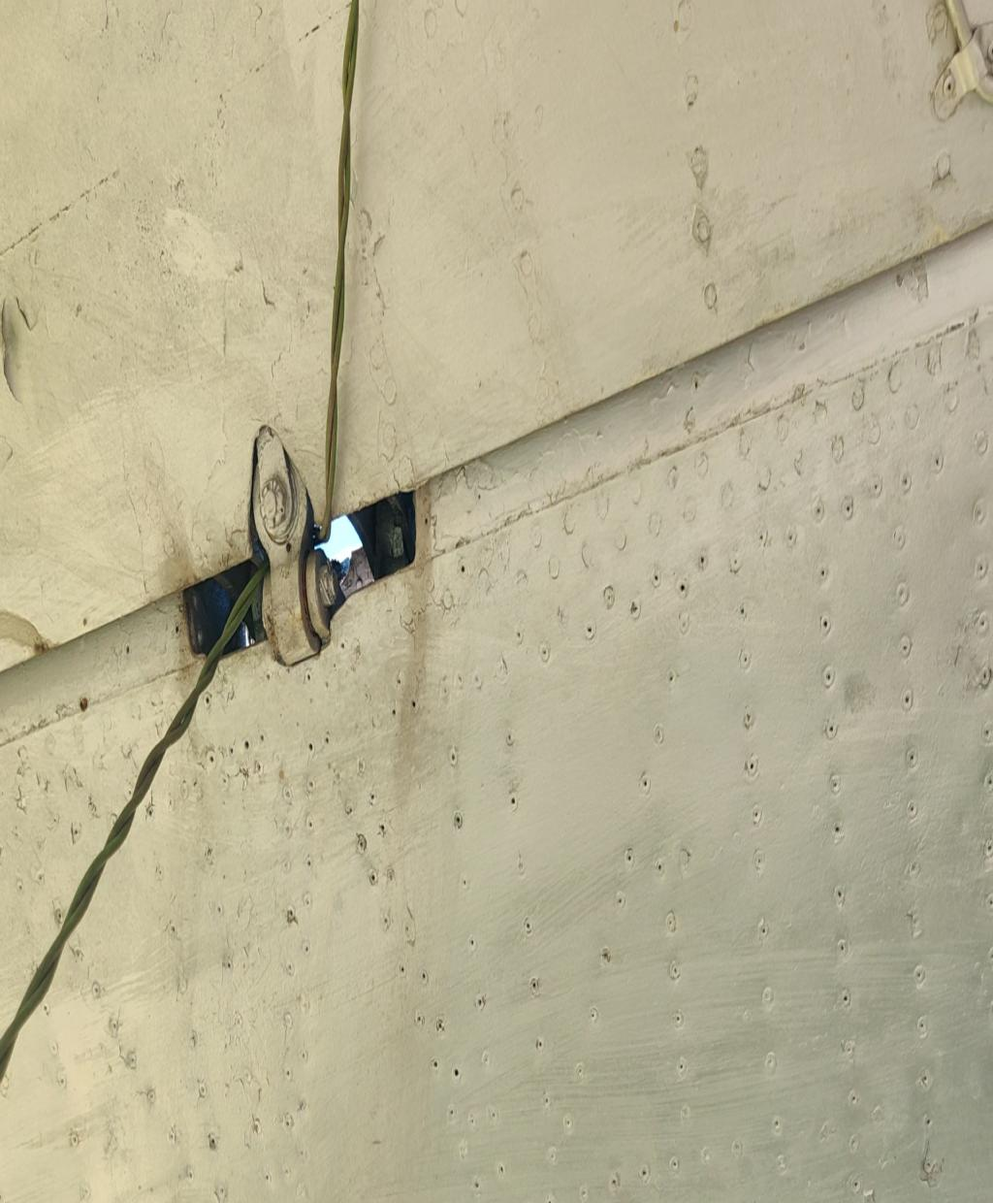corrosion: (0, 292, 59, 420)
